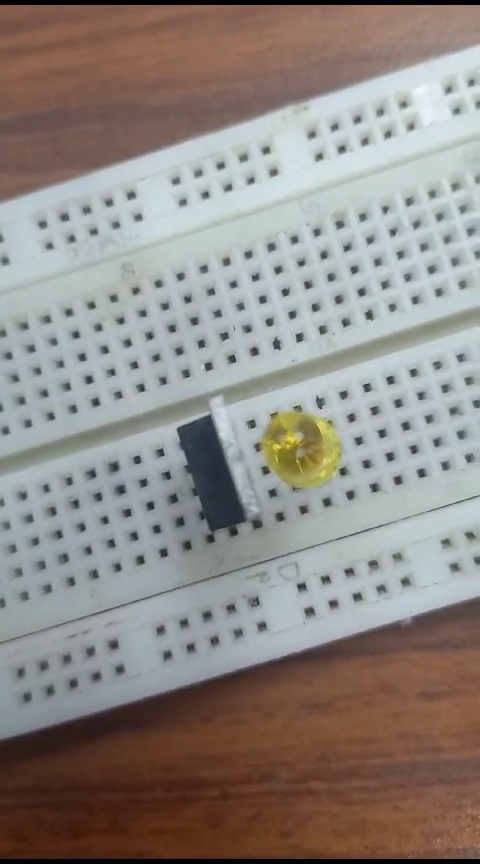LED: (263, 412, 346, 496)
voltage regulator: (166, 399, 255, 533)
